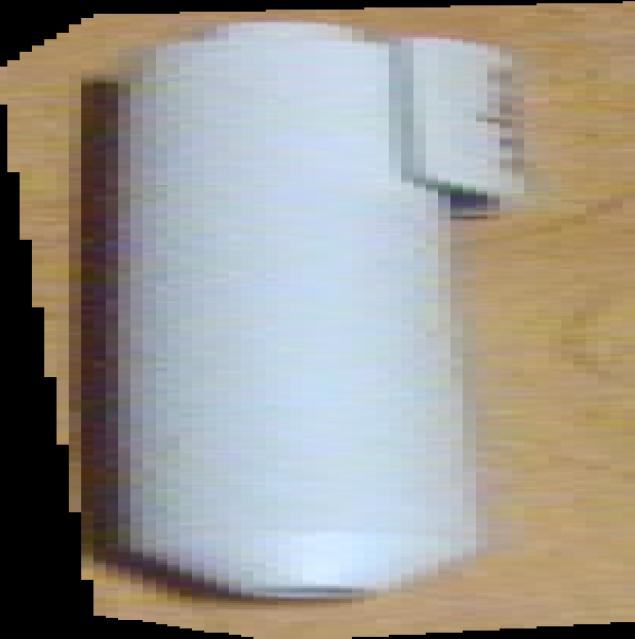white: (1, 1, 635, 639)
